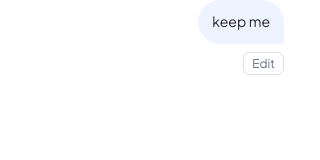
Scenario: ConversationTurn › cancels an edit without calling onEditMessage
This screenshot has width=320, height=160.
Click the button "Edit" at (264,63), box [243,52,284,75]
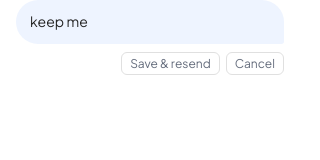
Click the button "Cancel" at (255,64), box [226,52,284,75]
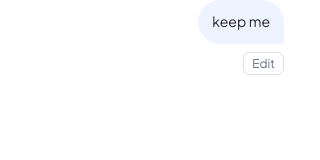
Expected: the text "keep me" is shown, [198,0,284,44]
